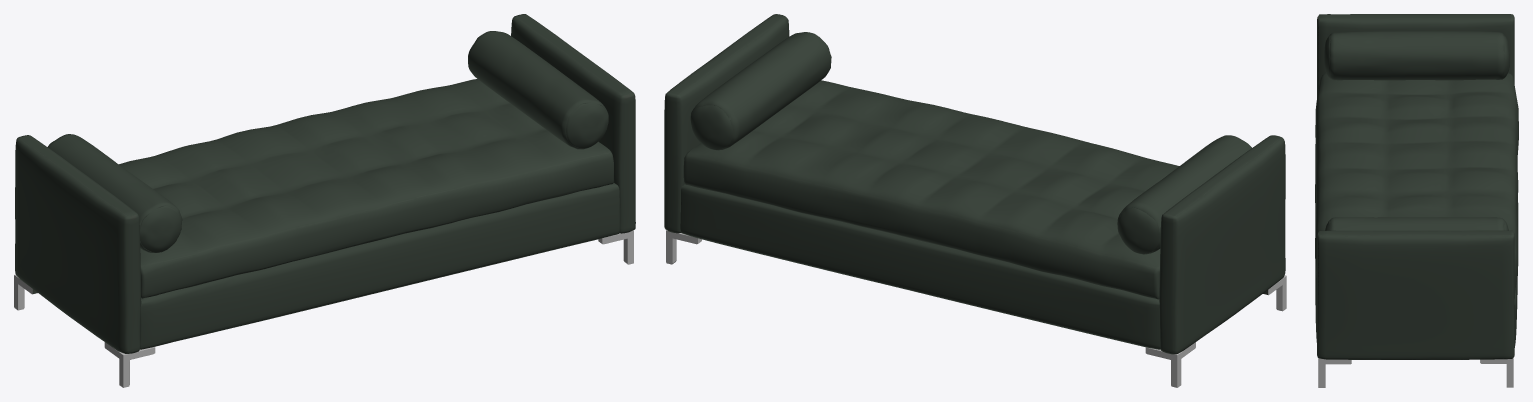
File: sofa_B075X2WNVN.glb
3 views of the same model, side by side, from view 1: azimuth 30°, elevation 25°; view 2: azimuth 150°, elevation 25°; view 3: azimuth 270°, elevation 25° (orthographic). The views are drawn at different scales.
Parts seen in each view (by area): view 1: RootNode; view 2: RootNode; view 3: RootNode.
Boxes of the visible parts, x1,y1,x2,y2 form: RootNode: (14,14,635,387); RootNode: (664,14,1286,387); RootNode: (1315,14,1518,387).
Bounding box in the file's own units: 2.1 × 0.6569 × 0.7965.
1 material, 1 textured.
